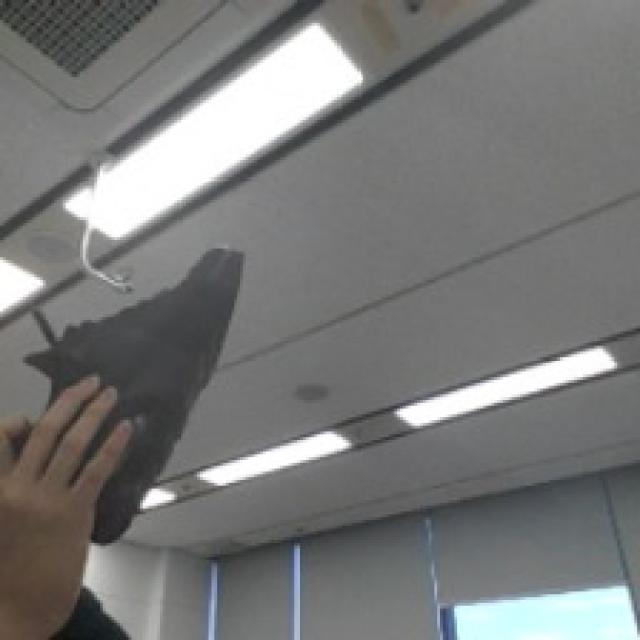shoe: (31, 154, 291, 544)
